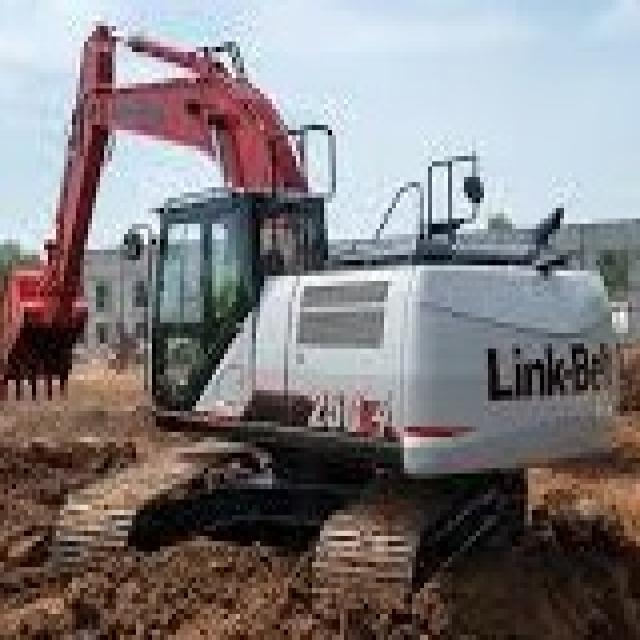excavator: (110, 174, 633, 567)
